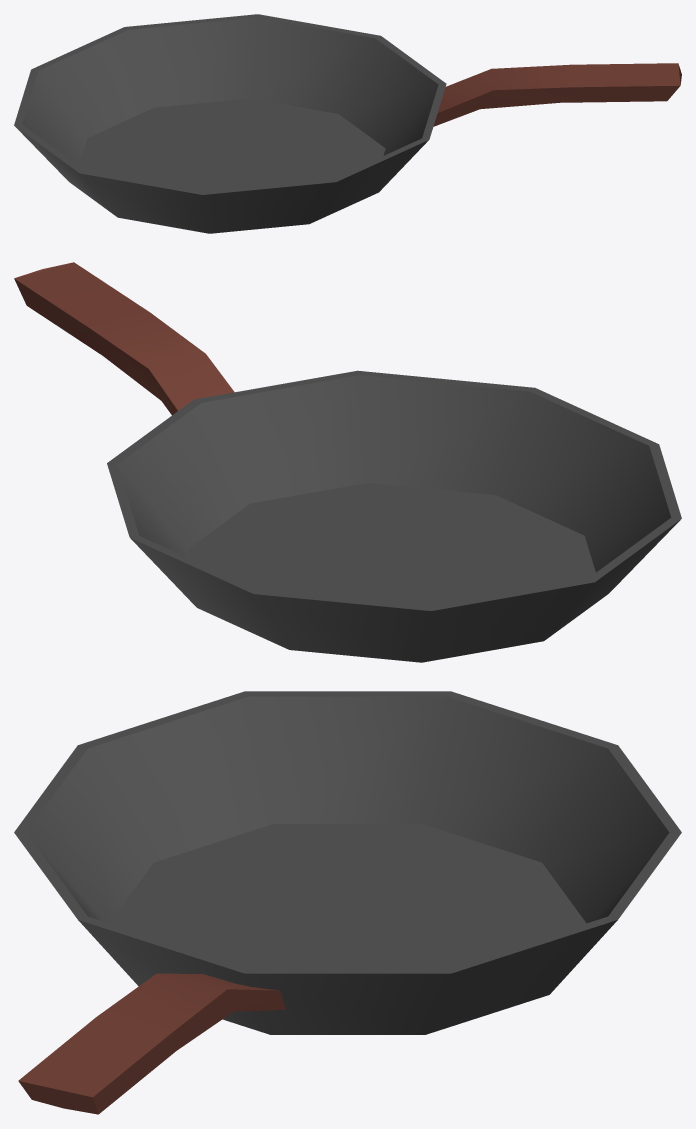
The model's file is FryingPan.fbx.
3 renders of one model, top to bottom at view 1: azimuth 30°, elevation 25°; view 2: azimuth 150°, elevation 25°; view 3: azimuth 270°, elevation 25°, orthographic. The views are drawn at different scales.
Visible parts, largest first — view 1: Circle.005; view 2: Circle.005; view 3: Circle.005.
Part boxes in pixels (x1,y1,x2,y2): Circle.005: (14, 14, 681, 233); Circle.005: (14, 262, 681, 662); Circle.005: (14, 691, 681, 1114).
Size of the model in its own units: 42 by 5.34 by 28.
Materials: 1 (1 with a texture image).
